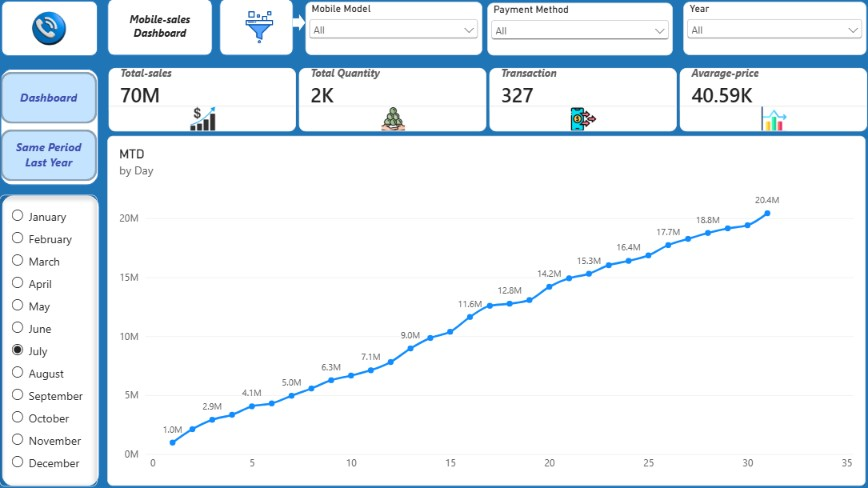

The page's visual inventory and layout, read from the dashboard file:
{"tool":"powerbi","page":{"name":"Dashboard","canvas":[1920,1080],"ordinal":0},"visuals":[{"type":"shape","box":[10,5,137.5,78.8],"z":0},{"type":"image","box":[46.2,10,65,70],"z":1000},{"type":"shape","box":[8.8,110,140,185],"z":2000},{"type":"shape","box":[10,307.5,141.2,431.2],"z":3000},{"type":"listSlicer","fields":{"Values":["Costum-calendar.Date.Variation.Date Hierarchy.Month"]},"box":[11.2,307.5,140,431.2],"z":4000},{"type":"cardVisual","fields":{"Data":["Sales-Data.Total-sales","Sales-Data.Total Quantity","Sales-Data.Transaction","Sales-Data.Avarage-price"]},"box":[155,93.8,1100,105],"z":5000},{"type":"slicer","fields":{"Values":["Sales-Data.Mobile Model"]},"box":[443.8,7.5,252.5,76.2],"z":6000},{"type":"slicer","fields":{"Values":["Sales-Data.Mobile Model"]},"box":[705,8.8,265,75],"z":7000},{"type":"slicer","fields":{"Values":["Sales-Data.Mobile Model"]},"box":[983.8,7.5,261.2,76.2],"z":8000},{"type":"shape","box":[321.1,3.3,105.6,81.1],"z":9000},{"type":"image","box":[338.8,20,80,47.5],"z":10000},{"type":"shape","box":[426.2,23.8,18.8,25],"z":11000},{"type":"shape","box":[161.1,3.3,150,81.1],"z":12000},{"type":"textbox","box":[5.5,652,150,338],"z":13000},{"type":"textbox","box":[161.2,21.2,150,48.8],"z":14000},{"type":"map","fields":{"Category":["Sales-Data.City"],"Size":["Sales-Data.Total-sales"]},"box":[161.2,198.8,373.8,258.8],"z":15000},{"type":"lineChart","fields":{"Category":["Costum-calendar.Date.Variation.Date Hierarchy.Month"],"Y":["Sales-Data.Total Quantity"]},"box":[547.5,198.8,697.5,180],"z":16000},{"type":"funnel","fields":{"Category":["Sales-Data.Rating"],"Y":["CountNonNull(Sales-Data.Customer Ratings)"]},"box":[548.8,390,338.8,150],"z":17000},{"type":"pieChart","fields":{"Category":["Sales-Data.Payment Method"],"Y":["CountNonNull(Sales-Data.Transaction ID)"]},"box":[896.2,390,348.8,150],"z":18000},{"type":"clusteredBarChart","fields":{"Category":["Sales-Data.Mobile Model"],"Y":["Sales-Data.Total-sales"]},"box":[547.5,552.5,340,186.2],"z":19000},{"type":"areaChart","fields":{"Category":["Costum-calendar.Day Name"],"Y":["Sales-Data.Total-sales"]},"box":[902.5,552.5,342.5,186.2],"z":20000},{"type":"tableEx","fields":{"Values":["Sales-Data.Brand","Sales-Data.Total-sales","Sales-Data.Total Quantity","Sales-Data.Transaction"]},"box":[166.2,465,368.8,273.8],"z":21000},{"type":"pageNavigator","box":[8.8,123.8,138.8,157.5],"z":21001}]}

Visuals, with their boxes in screenshot pixels (x1, y1, x2, y2), scaled from the page's 1920x1080 canvas onto the 868x488 screenshot:
shape: <box>5,2,67,38</box>
image: <box>21,5,50,36</box>
shape: <box>4,50,67,133</box>
shape: <box>5,139,68,334</box>
listSlicer - Costum-calendar.Date.Variation.Date Hierarchy.Month: <box>5,139,68,334</box>
cardVisual - Sales-Data.Total-sales x Sales-Data.Total Quantity: <box>70,42,567,90</box>
slicer - Sales-Data.Mobile Model: <box>201,3,315,38</box>
slicer - Sales-Data.Mobile Model: <box>319,4,439,38</box>
slicer - Sales-Data.Mobile Model: <box>445,3,563,38</box>
shape: <box>145,1,193,38</box>
image: <box>153,9,189,30</box>
shape: <box>193,11,201,22</box>
shape: <box>73,1,141,38</box>
textbox: <box>2,295,70,447</box>
textbox: <box>73,10,141,32</box>
map - Sales-Data.City x Sales-Data.Total-sales: <box>73,90,242,207</box>
lineChart - Costum-calendar.Date.Variation.Date Hierarchy.Month x Sales-Data.Total Quantity: <box>248,90,563,171</box>
funnel - Sales-Data.Rating x CountNonNull(Sales-Data.Customer Ratings): <box>248,176,401,244</box>
pieChart - Sales-Data.Payment Method x CountNonNull(Sales-Data.Transaction ID): <box>405,176,563,244</box>
clusteredBarChart - Sales-Data.Mobile Model x Sales-Data.Total-sales: <box>248,250,401,334</box>
areaChart - Costum-calendar.Day Name x Sales-Data.Total-sales: <box>408,250,563,334</box>
tableEx - Sales-Data.Brand x Sales-Data.Total-sales: <box>75,210,242,334</box>
pageNavigator: <box>4,56,67,127</box>
